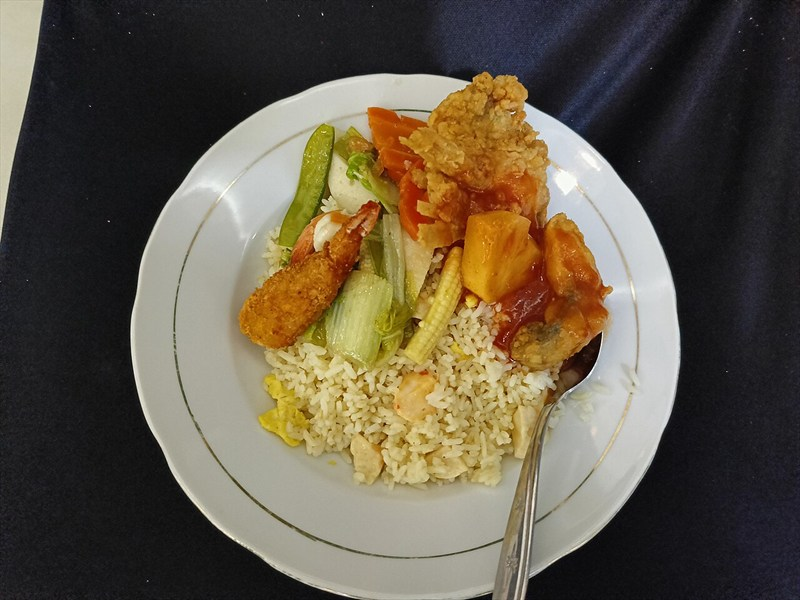Nasi Goreng: (162, 79, 668, 501)
